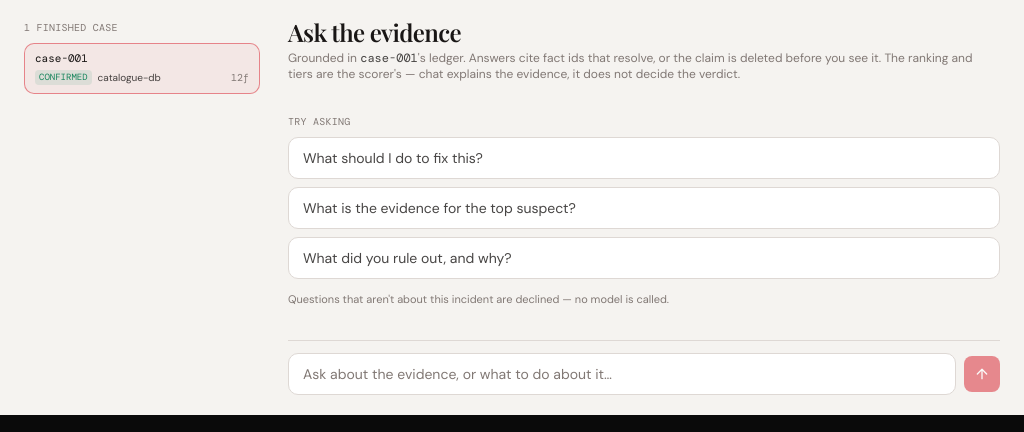
Scenario: ChatView › surfaces stripped claims rather than silently showing a shorter answer
The width and height of the screenshot is (1024, 432).
Click the button "What should I do to fix this?" at (393,158), box 288,137 -> 1000,179
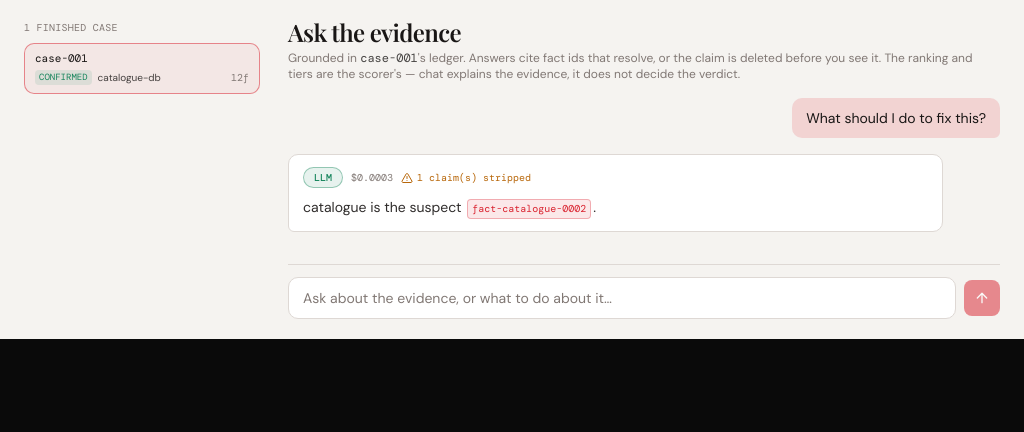
Expected: the text "1 claim(s) stripped" is shown, 401,170 -> 531,185
